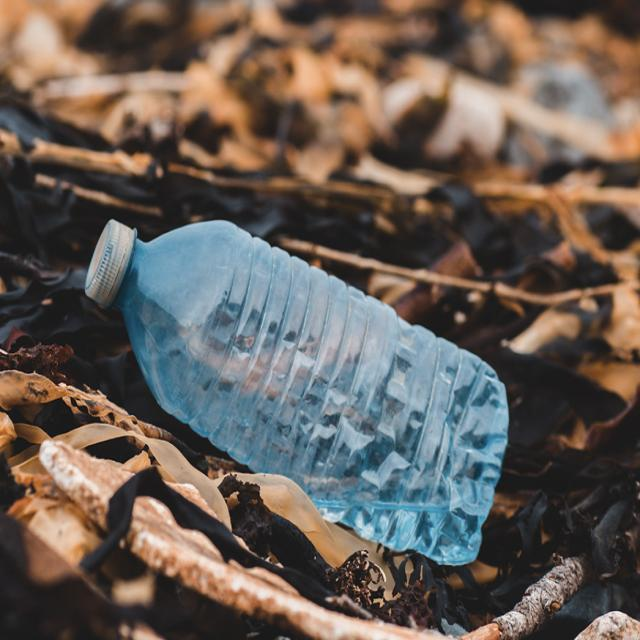recyclable: (70, 178, 548, 604)
